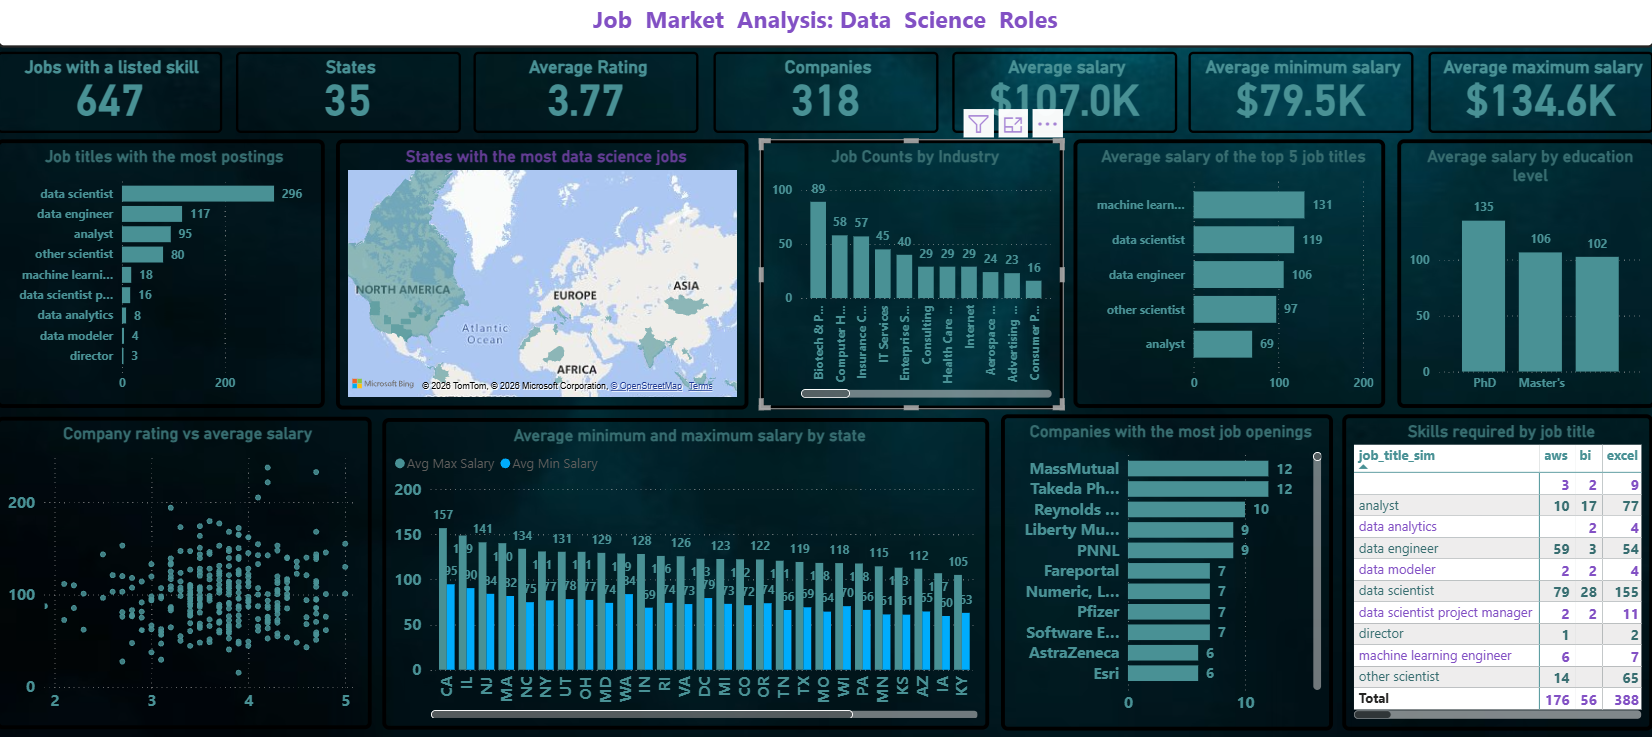

Layout of this report page (visuals, bound fields, positions):
{"tool":"powerbi","page":{"name":"Page 1","canvas":[1699,764],"ordinal":0},"visuals":[{"type":"filledMap","title":"States with the most data science jobs","fields":{"Category":["job_cleaned.Job_Location"]},"box":[348.8,149.5,422.7,276.6],"z":0},{"type":"clusteredColumnChart","title":"Average minimum and maximum salary by state","fields":{"Category":["job_cleaned.Job_Location"],"Y":["job_cleaned.Avg Max Salary1","job_cleaned.Avg Min Salary1"]},"box":[395.2,434.7,622,319.6],"z":1000},{"type":"clusteredColumnChart","fields":{"Category":["job_cleaned.Industry"],"Y":["job_cleaned.Job Counts"]},"box":[781.8,149.5,311,276.6],"z":2000},{"type":"clusteredBarChart","title":"Companies with the most job openings","fields":{"Category":["job_cleaned.company_txt"],"Y":["job_cleaned.Job Counts"]},"box":[1028.6,430.9,339.8,324.3],"z":3000},{"type":"clusteredBarChart","title":"Job titles with the most postings","fields":{"Category":["job_cleaned.job_title_sim"],"Y":["job_cleaned.Job Counts"]},"box":[0,149.5,336.8,274.9],"z":4000},{"type":"clusteredBarChart","title":"Average salary of the top 5 job titles","fields":{"Category":["job_cleaned.job_title_sim"],"Y":["job_cleaned.Avg Salarys"]},"box":[1103.1,149.5,319.6,274.9],"z":5000},{"type":"clusteredColumnChart","title":"Average salary by education level","fields":{"Category":["job_cleaned.Degree"],"Y":["job_cleaned.Avg Salary1"]},"box":[1434.7,149.5,264.6,274.9],"z":6000},{"type":"scatterChart","title":"Company rating vs average salary","fields":{"Category":["job_cleaned.company"],"X":["job_cleaned.Avg Ratings"],"Y":["job_cleaned.Avg Salarys"]},"box":[0,433.7,384.6,319.7],"z":7000},{"type":"card","title":"Jobs with a listed skill","fields":{"Values":["job_cleaned.Job Counts"]},"box":[1.5,60.2,230.1,83.4],"z":8000},{"type":"card","title":"States","fields":{"Values":["job_cleaned.States"]},"box":[245.6,60.2,230.1,83.4],"z":9000},{"type":"card","title":"Average maximum salary","fields":{"Values":["job_cleaned.Max Salary Text"]},"box":[1467.3,60.2,230.1,83.4],"z":10000},{"type":"card","title":"Average minimum salary","fields":{"Values":["job_cleaned.Min Salary Text"]},"box":[1221.7,60.2,230.1,83.4],"z":11000},{"type":"card","title":"Average Rating","fields":{"Values":["job_cleaned.Avg Ratings"]},"box":[489.6,60.2,230.1,83.4],"z":12000},{"type":"card","title":"Companies","fields":{"Values":["job_cleaned.Companies"]},"box":[735.2,60.2,230.1,83.4],"z":13000},{"type":"card","title":"Average salary","fields":{"Values":["job_cleaned.Avg Salary Text"]},"box":[979.2,60.2,230.1,83.4],"z":14000},{"type":"pivotTable","title":"Skills required by job title","fields":{"Columns":["job_cleaned.skills"],"Rows":["job_cleaned.job_title_sim"],"Values":["job_cleaned.Skill Job"]},"box":[1379.2,430.9,318.2,324.3],"z":15000},{"type":"textbox","box":[1.5,0,1697.4,55.6],"z":16000}]}

Visuals, with their boxes in screenshot pixels (x1, y1, x2, y2), scaled from the page's 1699x764 canvas onto the 1652x737 screenshot:
"States with the most data science jobs" filledMap: [339,144,750,411]
"Average minimum and maximum salary by state" clusteredColumnChart: [384,419,989,728]
clusteredColumnChart - job_cleaned.Industry x job_cleaned.Job Counts: [760,144,1063,411]
"Companies with the most job openings" clusteredBarChart: [1000,416,1331,729]
"Job titles with the most postings" clusteredBarChart: [0,144,327,409]
"Average salary of the top 5 job titles" clusteredBarChart: [1073,144,1383,409]
"Average salary by education level" clusteredColumnChart: [1395,144,1651,409]
"Company rating vs average salary" scatterChart: [0,418,374,727]
"Jobs with a listed skill" card: [1,58,225,139]
"States" card: [239,58,463,139]
"Average maximum salary" card: [1427,58,1650,139]
"Average minimum salary" card: [1188,58,1412,139]
"Average Rating" card: [476,58,700,139]
"Companies" card: [715,58,939,139]
"Average salary" card: [952,58,1176,139]
"Skills required by job title" pivotTable: [1341,416,1650,729]
textbox: [1,0,1651,54]
